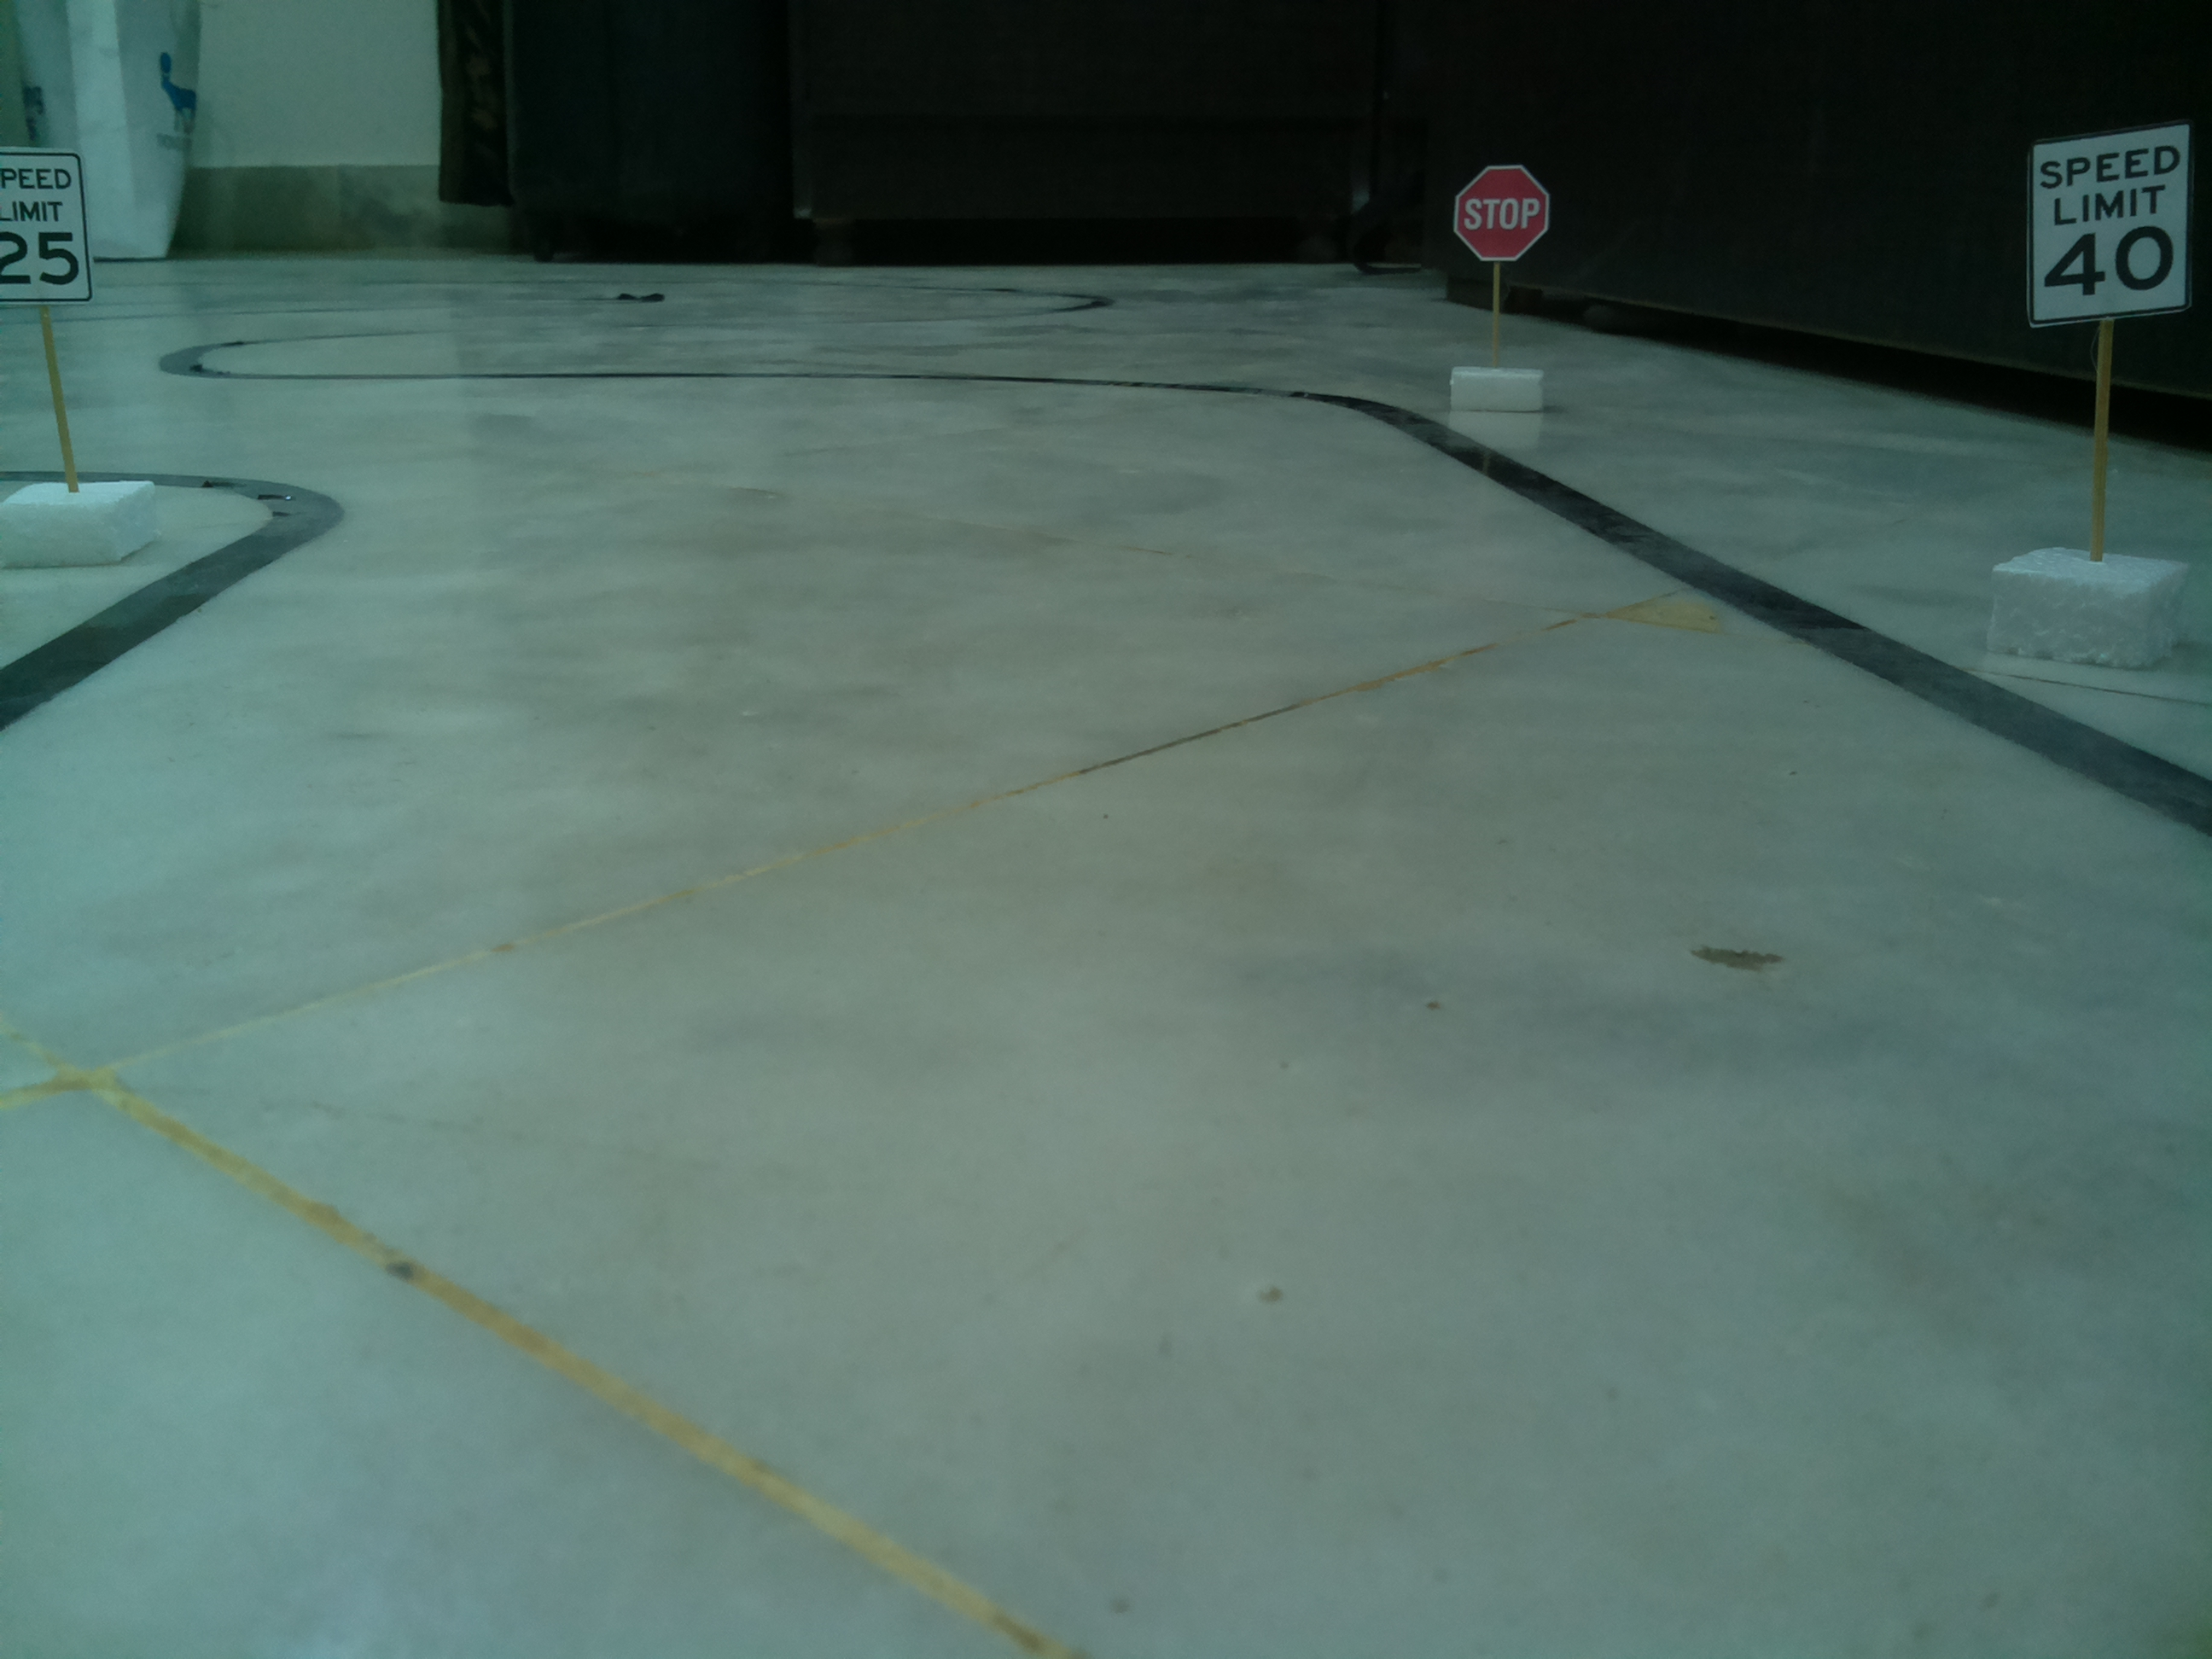Speed limit 25: (0, 143, 101, 308)
Speed limit 40: (2024, 134, 2212, 338)
Stop sign: (1449, 164, 1559, 265)
